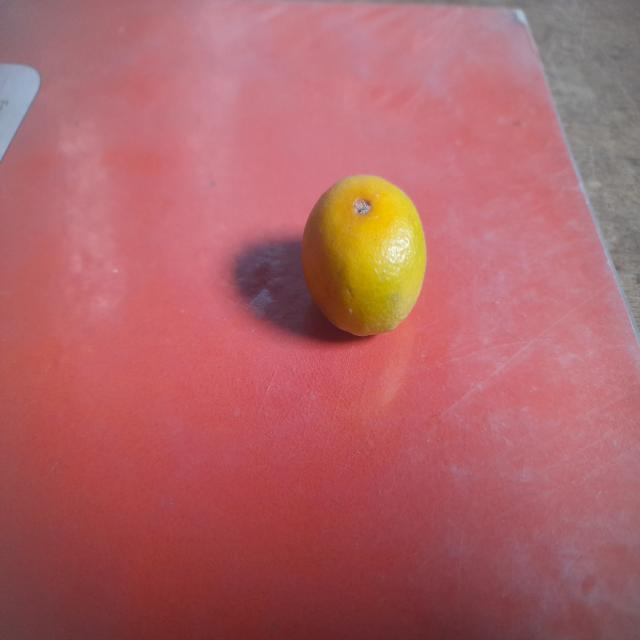greening: (304, 168, 434, 338)
